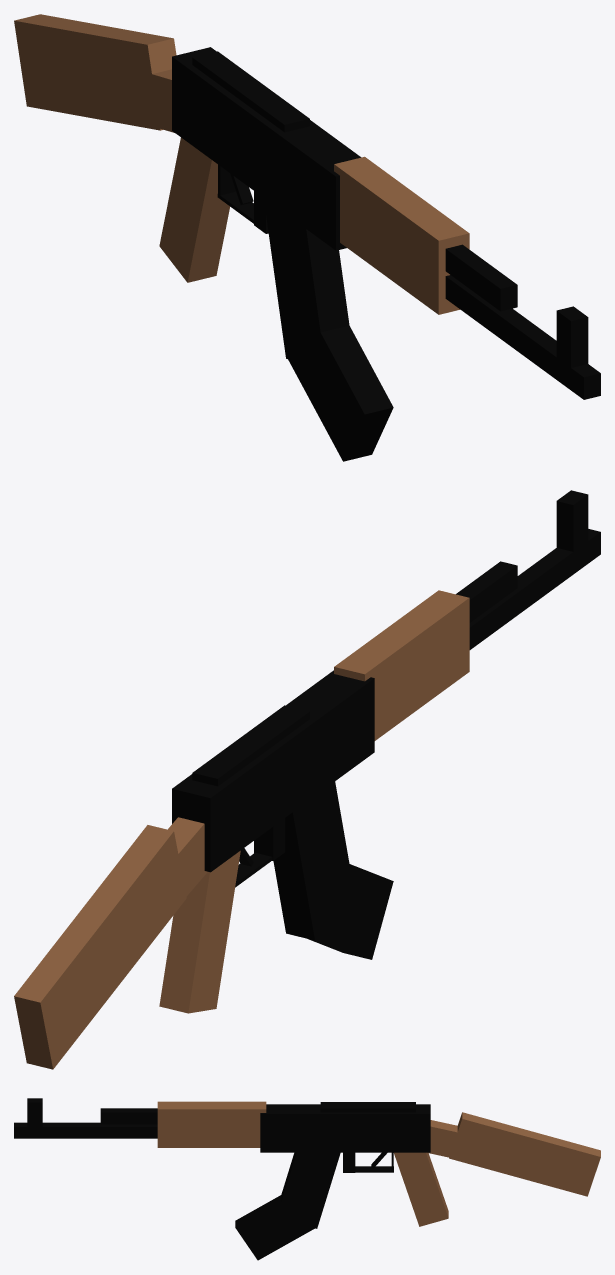
File: voidffa_AK47.glb
3 views of the same model, one above another, from view 1: azimuth 30°, elevation 25°; view 2: azimuth 150°, elevation 25°; view 3: azimuth 270°, elevation 25° (orthographic). The views are drawn at different scales.
Visible parts, largest first — view 1: Cube.007, Cube.010, Cube.005, Cube.020, Cube.021, Cube.023, Cube, Cube.008, Cube.009, Cube.006, Cube.001; view 2: Cube.010, Cube.007, Cube.005, Cube.021, Cube.023, Cube.020, Cube, Cube.009, Cube.008, Cube.001, Cube.006, Cube.017; view 3: Cube.007, Cube.010, Cube.005, Cube.020, Cube.021, Cube.023, Cube, Cube.009, Cube.008, Cube.006, Cube.001, Cube.017 (+1 smaller).
Part boxes in pixels (x1=…): Cube.007: x1=172, y1=47, x2=361, y2=250; Cube.010: x1=14, y1=14, x2=176, y2=130; Cube.005: x1=334, y1=156, x2=469, y2=314; Cube.020: x1=286, y1=318, x2=393, y2=461; Cube.021: x1=263, y1=198, x2=349, y2=364; Cube.023: x1=159, y1=137, x2=229, y2=282; Cube: x1=445, y1=275, x2=600, y2=399; Cube.008: x1=192, y1=51, x2=309, y2=132; Cube.009: x1=118, y1=64, x2=174, y2=132; Cube.006: x1=445, y1=244, x2=517, y2=311; Cube.001: x1=556, y1=306, x2=588, y2=377; Cube.010: x1=14, y1=825, x2=186, y2=1069; Cube.007: x1=172, y1=670, x2=374, y2=872; Cube.005: x1=334, y1=590, x2=469, y2=740; Cube.021: x1=273, y1=781, x2=352, y2=940; Cube.023: x1=159, y1=850, x2=240, y2=1013; Cube.020: x1=308, y1=859, x2=393, y2=959; Cube: x1=469, y1=529, x2=600, y2=649; Cube.009: x1=145, y1=817, x2=207, y2=936; Cube.008: x1=192, y1=705, x2=309, y2=786; Cube.001: x1=556, y1=490, x2=588, y2=558; Cube.006: x1=456, y1=561, x2=517, y2=622; Cube.017: x1=254, y1=818, x2=285, y2=860; Cube.007: x1=260, y1=1104, x2=430, y2=1152; Cube.010: x1=449, y1=1112, x2=600, y2=1196; Cube.005: x1=157, y1=1101, x2=266, y2=1147; Cube.020: x1=235, y1=1195, x2=316, y2=1260; Cube.021: x1=281, y1=1152, x2=340, y2=1228; Cube.023: x1=394, y1=1152, x2=448, y2=1226; Cube: x1=14, y1=1122, x2=157, y2=1138; Cube.009: x1=427, y1=1120, x2=491, y2=1165; Cube.008: x1=320, y1=1102, x2=415, y2=1112; Cube.006: x1=100, y1=1108, x2=157, y2=1124; Cube.001: x1=27, y1=1098, x2=42, y2=1132; Cube.017: x1=343, y1=1152, x2=355, y2=1172.
Size of the model in its own units: 0.1899 by 1.41 by 4.8.
